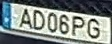0: (46, 11, 57, 33)
6: (58, 13, 70, 35)
A: (17, 8, 33, 29)
D: (33, 9, 46, 31)
G: (86, 17, 100, 40)
P: (70, 15, 85, 37)
